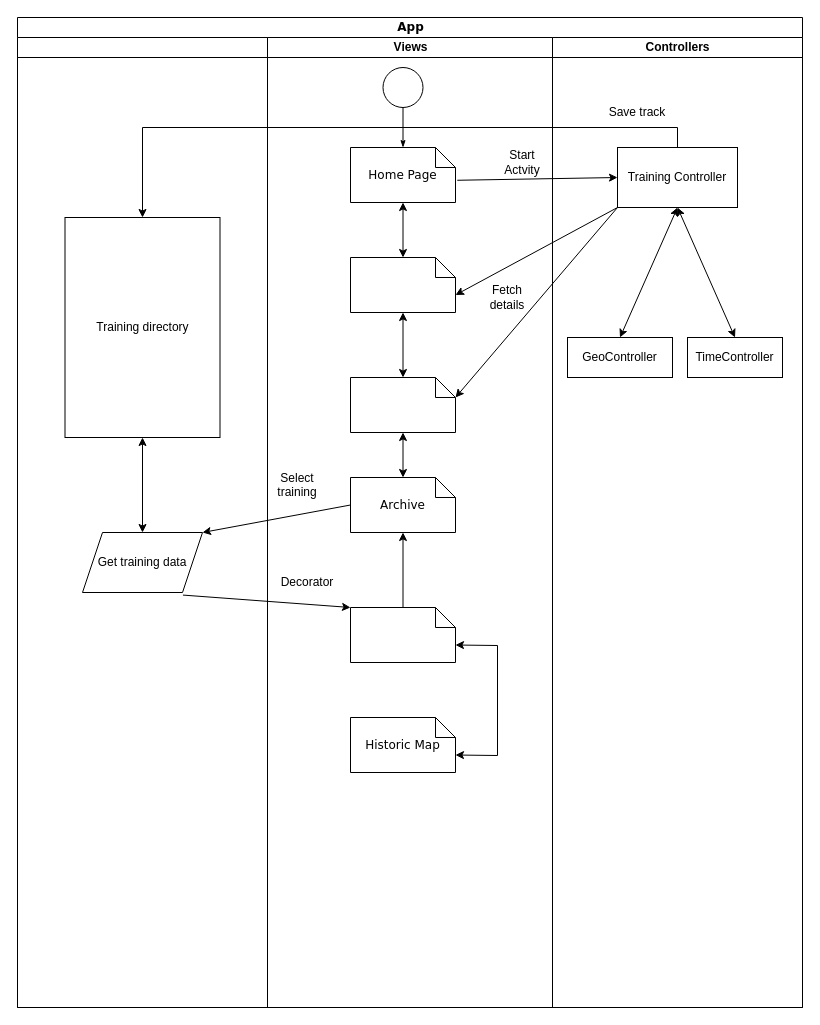
Some shapes in this 820 by 1025 pixel diagram are drawn without their labels. Each missing label, with the box of its shape:
Current Activity: (350, 256, 456, 312)
Live Map: (350, 376, 456, 432)
Models: (16, 36, 268, 1008)
Start: (382, 66, 423, 108)
Training analysis: (350, 606, 456, 662)
